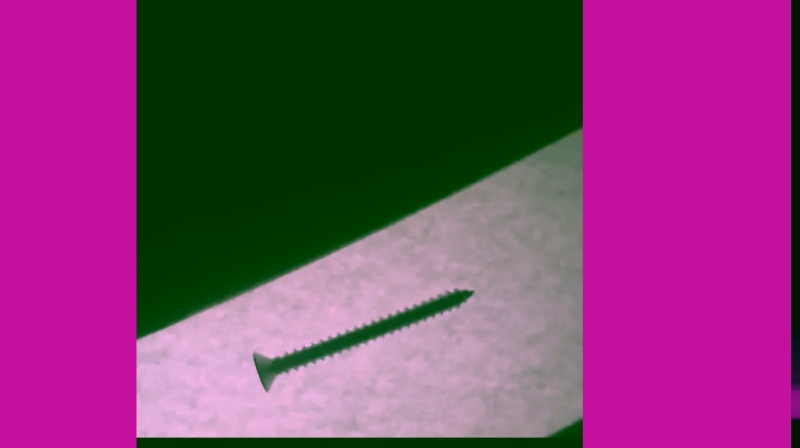S002: (245, 285, 475, 396)
